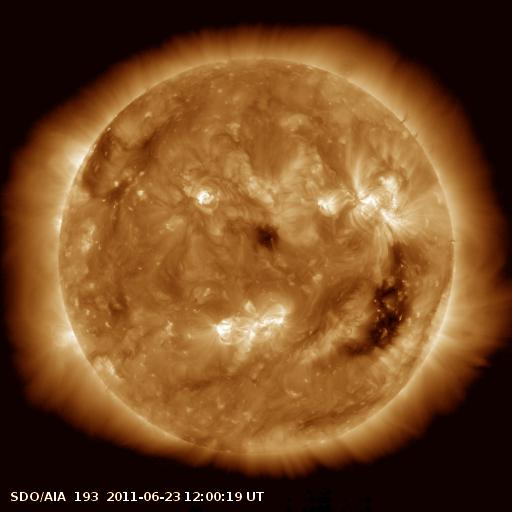coronal_hole: (329, 250, 415, 370), (247, 219, 285, 257)
